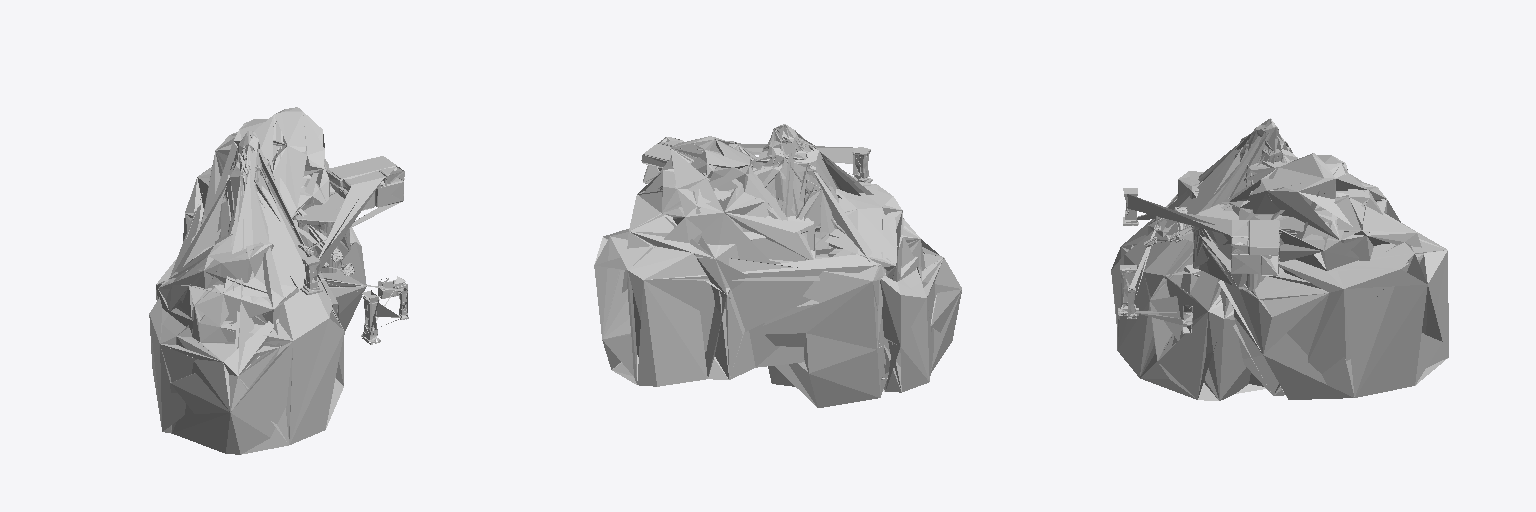
File: cellRuins_WaterHall_Proxy-sharedassets3.assets-655.obj
3 views of the same model, side by side, from view 1: azimuth 30°, elevation 25°; view 2: azimuth 150°, elevation 25°; view 3: azimuth 270°, elevation 25° (orthographic).
Parts seen in each view (by area): view 1: cellRuins_WaterHall_Proxy_4, cellRuins_WaterHall_Proxy_2, cellRuins_WaterHall_Proxy_3, cellRuins_WaterHall_Proxy_1, cellRuins_WaterHall_Proxy_5; view 2: cellRuins_WaterHall_Proxy_4, cellRuins_WaterHall_Proxy_1, cellRuins_WaterHall_Proxy_3, cellRuins_WaterHall_Proxy_5, cellRuins_WaterHall_Proxy_2; view 3: cellRuins_WaterHall_Proxy_4, cellRuins_WaterHall_Proxy_1, cellRuins_WaterHall_Proxy_3, cellRuins_WaterHall_Proxy_5, cellRuins_WaterHall_Proxy_2.
Part boxes in pixels (x1,y1,x2,y2): cellRuins_WaterHall_Proxy_4: (149,107,365,426); cellRuins_WaterHall_Proxy_2: (155,131,404,453); cellRuins_WaterHall_Proxy_3: (149,109,408,454); cellRuins_WaterHall_Proxy_1: (149,131,366,454); cellRuins_WaterHall_Proxy_5: (150,109,366,441); cellRuins_WaterHall_Proxy_4: (594,126,941,407); cellRuins_WaterHall_Proxy_1: (594,124,961,393); cellRuins_WaterHall_Proxy_3: (595,125,961,407); cellRuins_WaterHall_Proxy_5: (611,124,939,397); cellRuins_WaterHall_Proxy_2: (618,125,961,381); cellRuins_WaterHall_Proxy_4: (1122,121,1447,397); cellRuins_WaterHall_Proxy_1: (1112,118,1445,397); cellRuins_WaterHall_Proxy_3: (1117,125,1448,399); cellRuins_WaterHall_Proxy_5: (1118,119,1447,400); cellRuins_WaterHall_Proxy_2: (1111,119,1444,400).
Bounding box in the file's own units: 114 × 112 × 130.